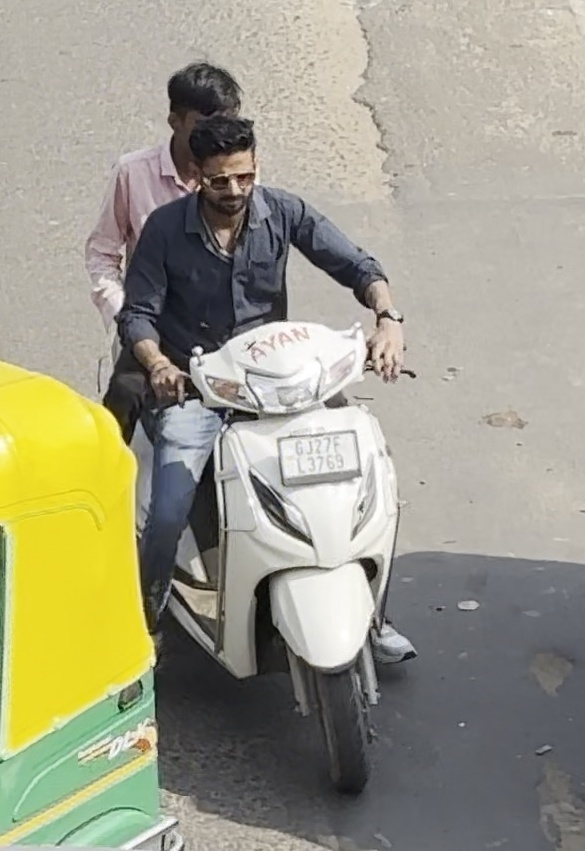NoHelmet: (71, 55, 431, 810), (141, 57, 257, 167), (184, 109, 271, 221)
